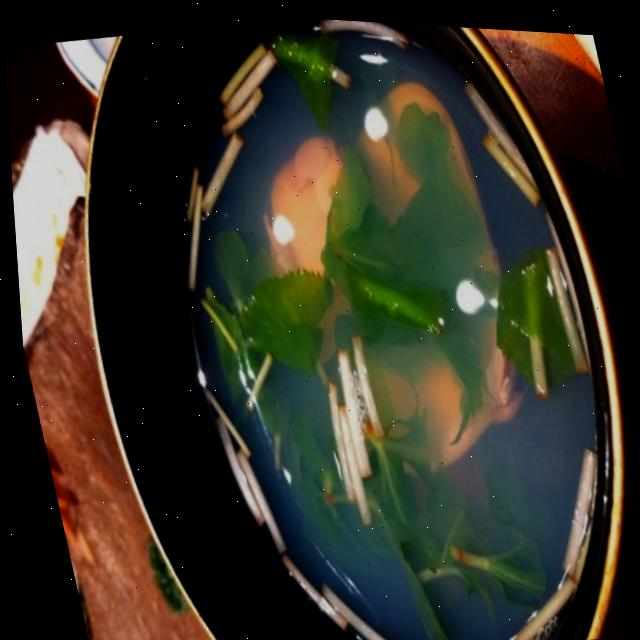汤锅炖物: (20, 1, 640, 640)
